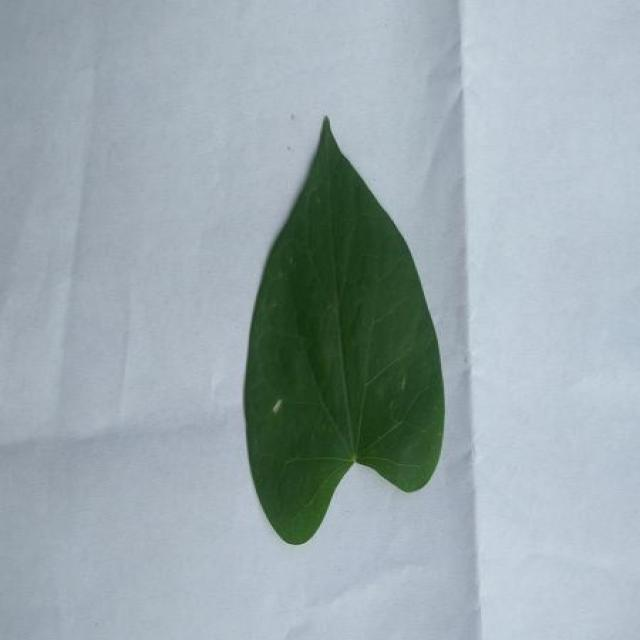Amruthaballi: (245, 118, 445, 544)
